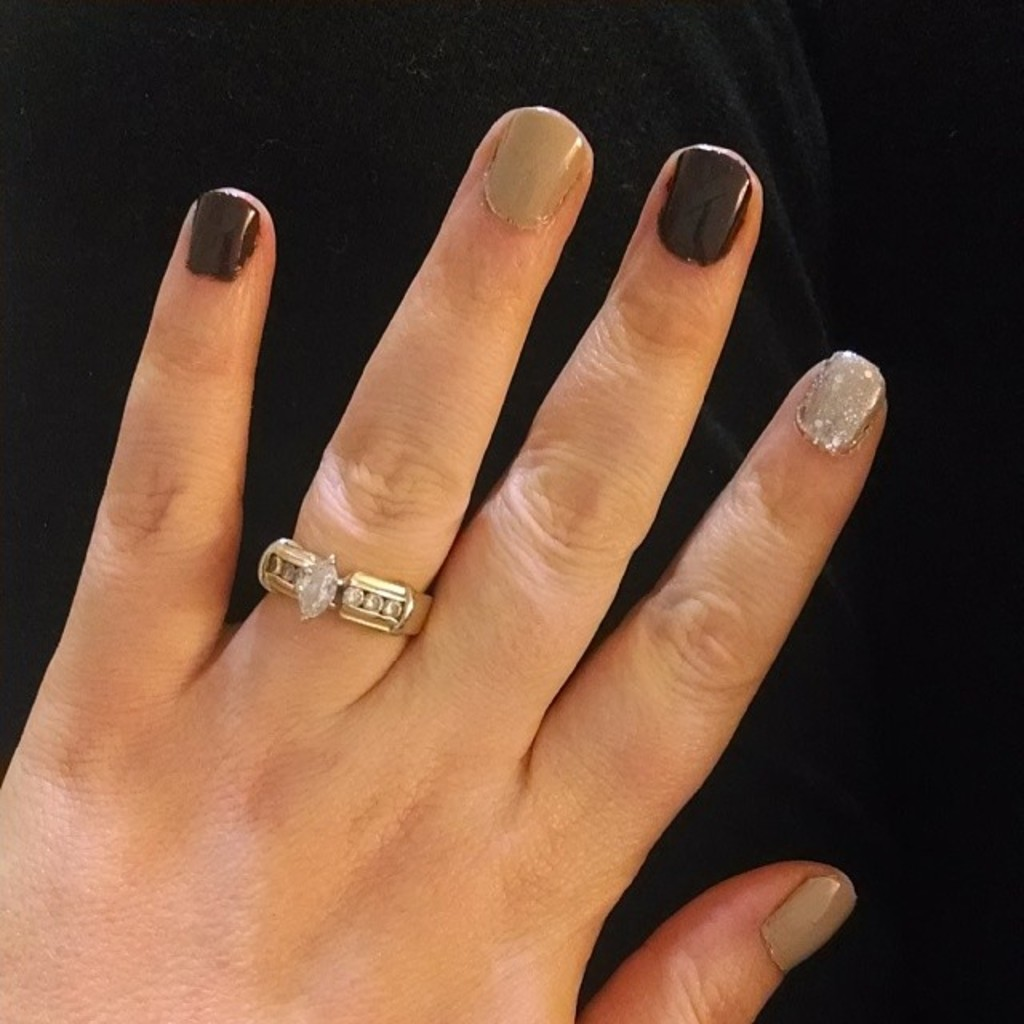Person: (0, 105, 885, 1024)
